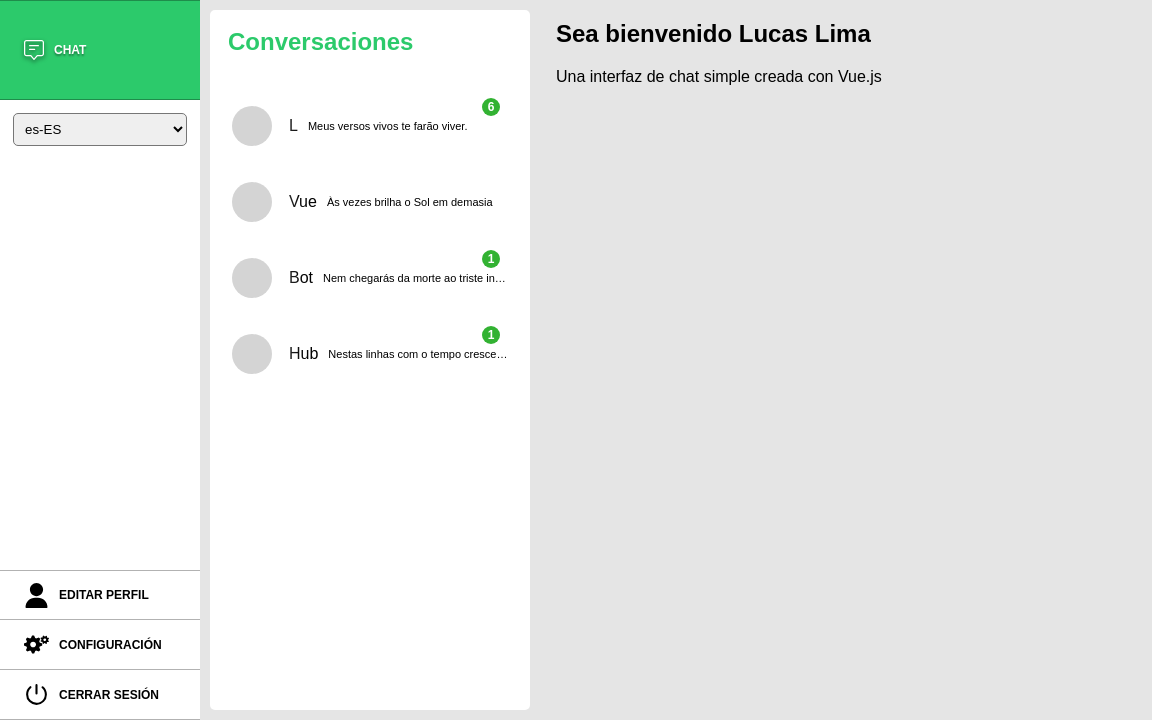
Test: Validar Textos menu e Bem-vindo › Bienvenu
The width and height of the screenshot is (1152, 720).
Select "fr-FR" in the dropdown with class "languages". click: (100, 129)
box: [13,113,186,145]
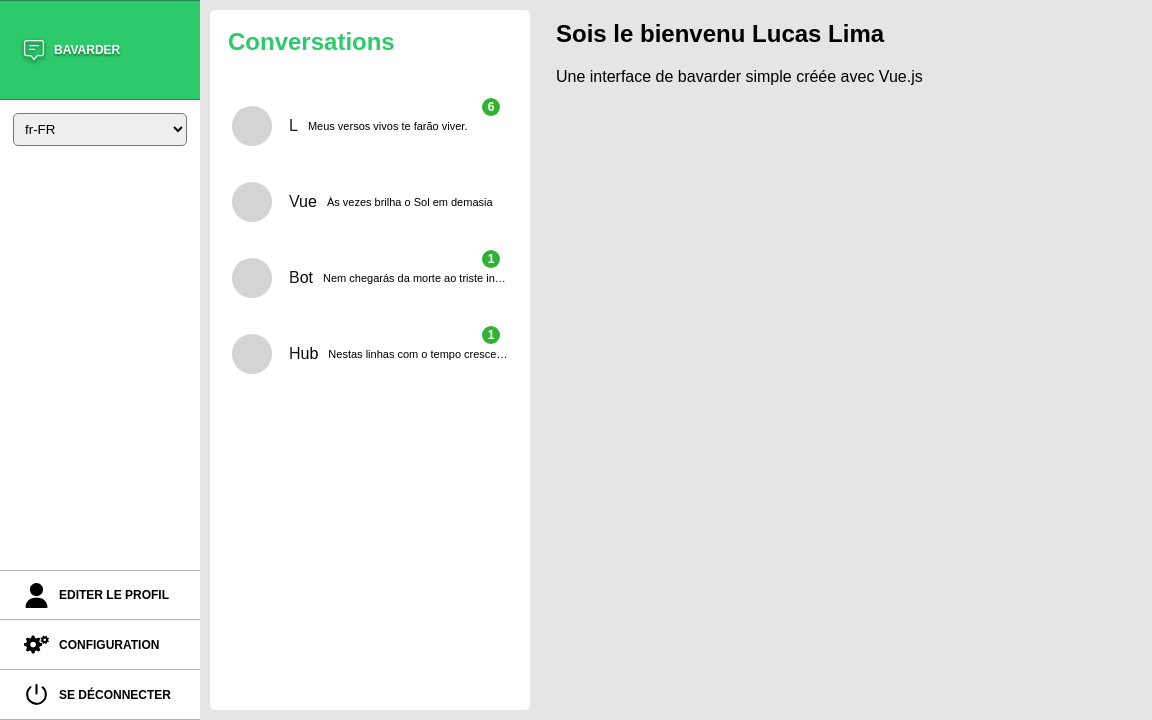
Expected: the button "Bavarder" is shown, [0,0,200,100]
Expected: the button "Editer le profil" is shown, [0,570,200,620]
Expected: the button "Configuration" is shown, [0,620,200,670]
